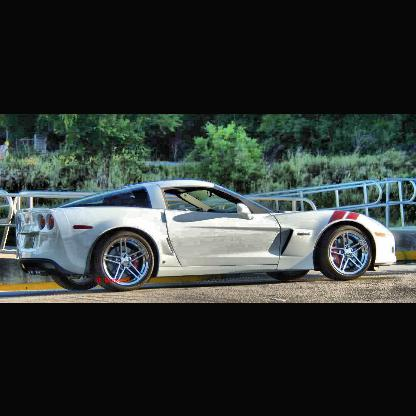Chevrolet Corvette Ron Fellows Edition Z06 2007: (15, 179, 398, 292)
